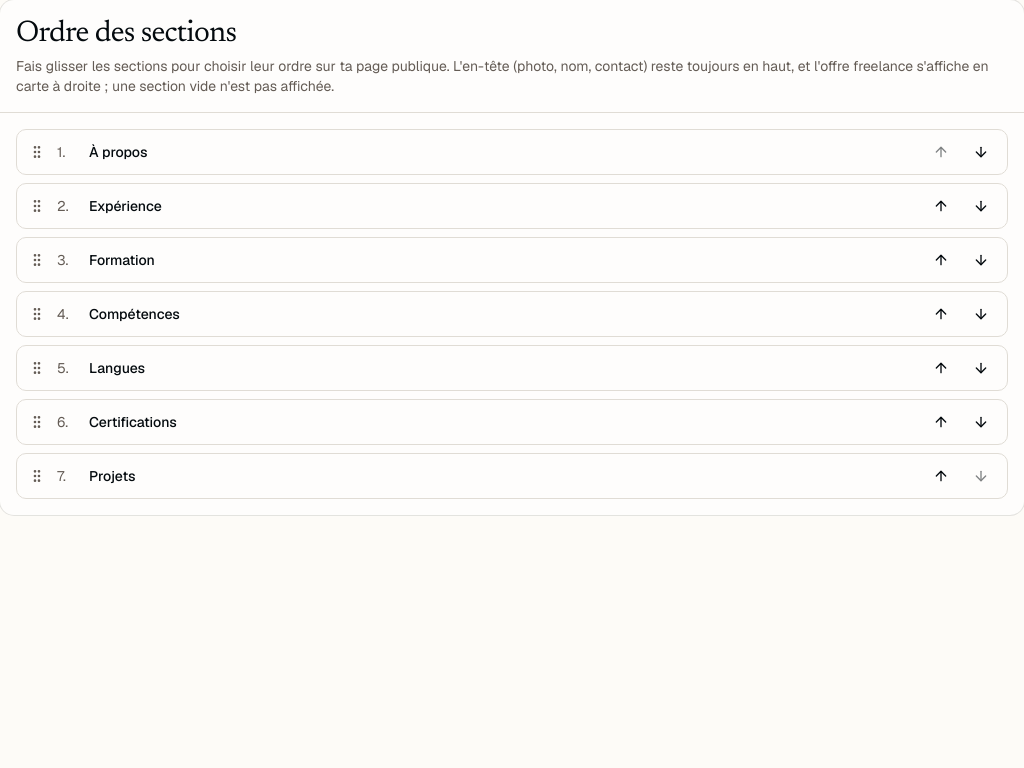
Scenario: SectionOrderForm › permet aussi de déplacer au clavier et revient en arrière en cas d'erreur
The width and height of the screenshot is (1024, 768).
Expected: the button named "Monter À propos" is disabled, [927,138,955,166]
What coordinates should you click on to do the following:
click the button named "Descendre À propos"
I would click on:
 (981, 152)
Its box is [967,138,995,166].
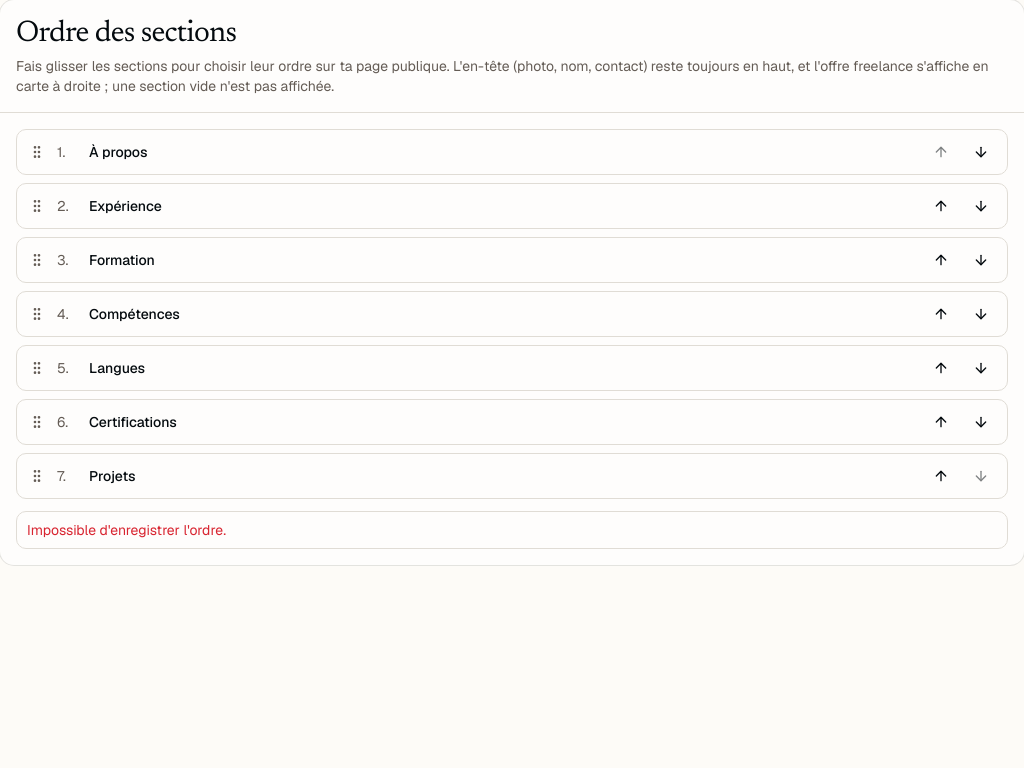
Expected: the text "À propos" is shown, [89,143,148,161]
Expected: the message reads "Impossible d'enregistrer l'ordre.", [27,521,226,539]
